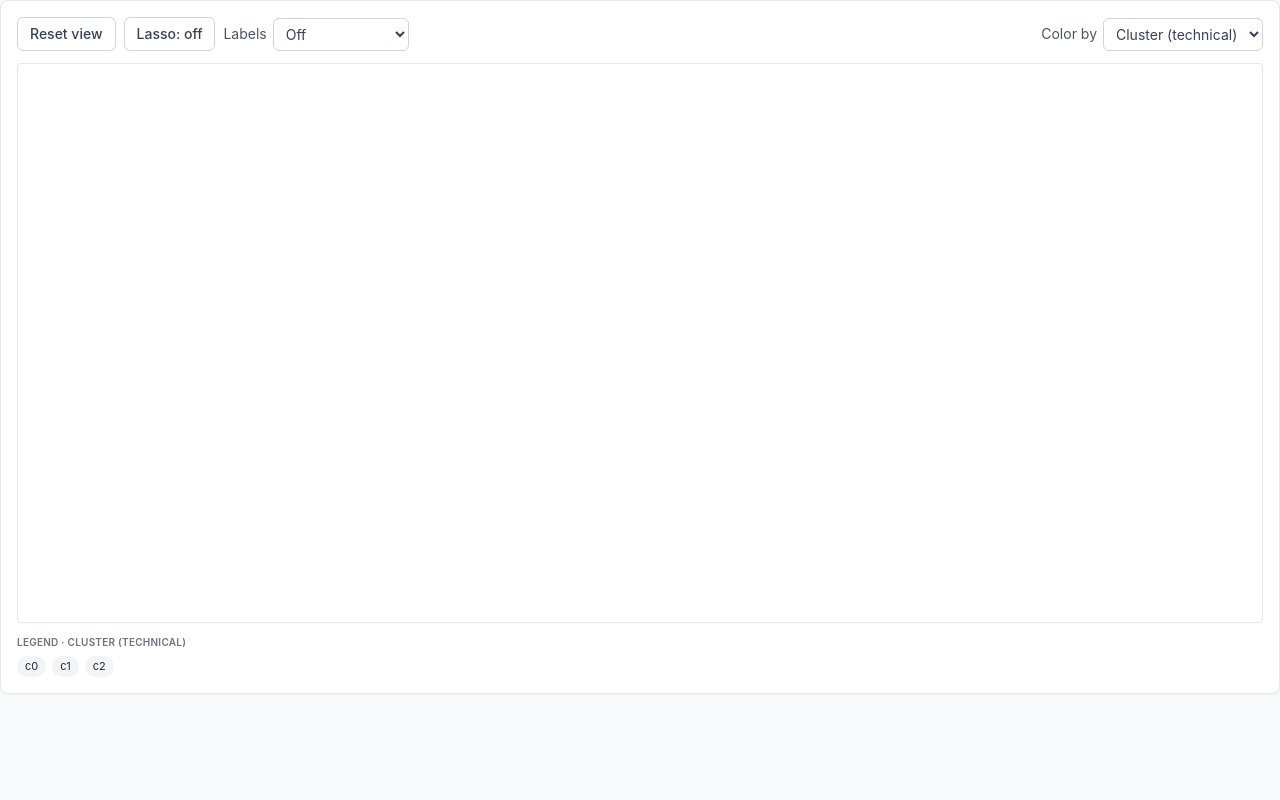
Test: EmbeddingViewer › toggles lasso button label on click
The image size is (1280, 800).
Click the button "Lasso: off" at coordinates (169, 34), box 124,17 -> 215,51
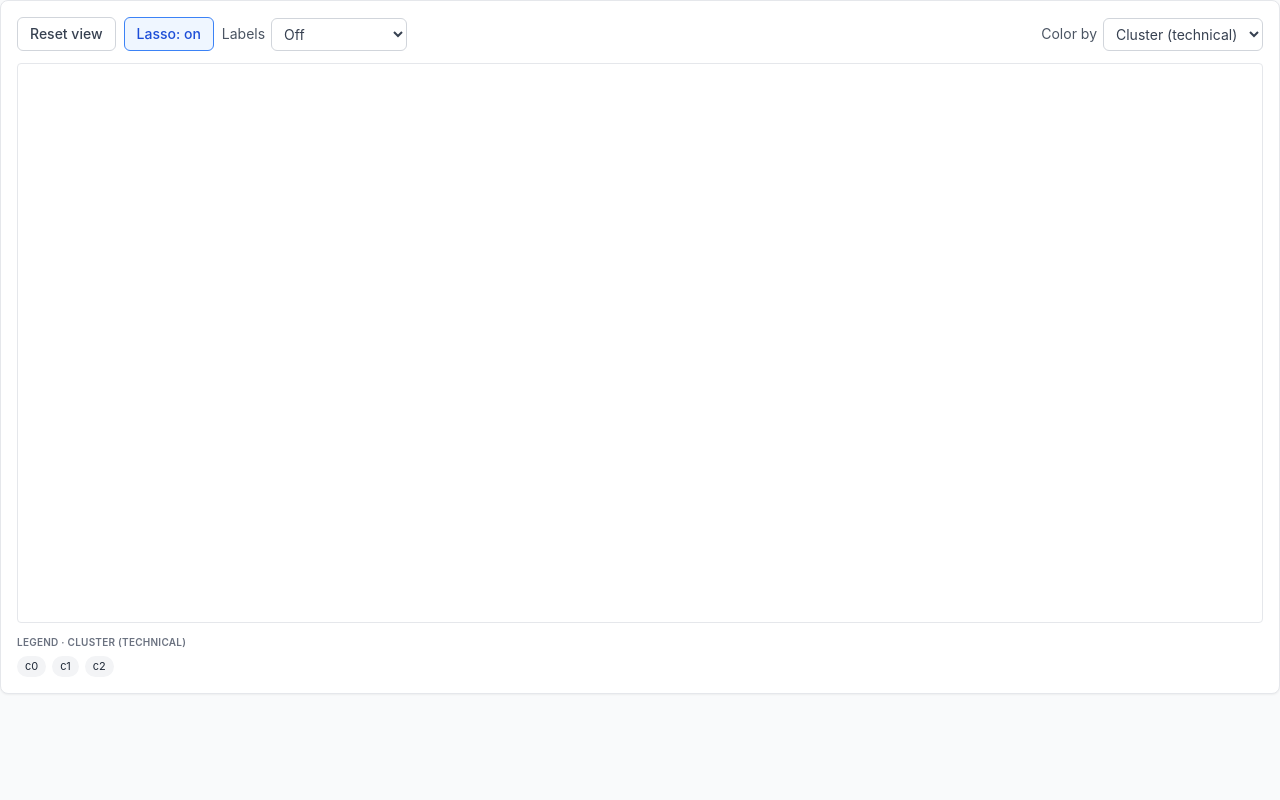
Expected: the button "Lasso: on" is shown
Click the button "Lasso: on" at coordinates (169, 34), box 124,17 -> 214,51
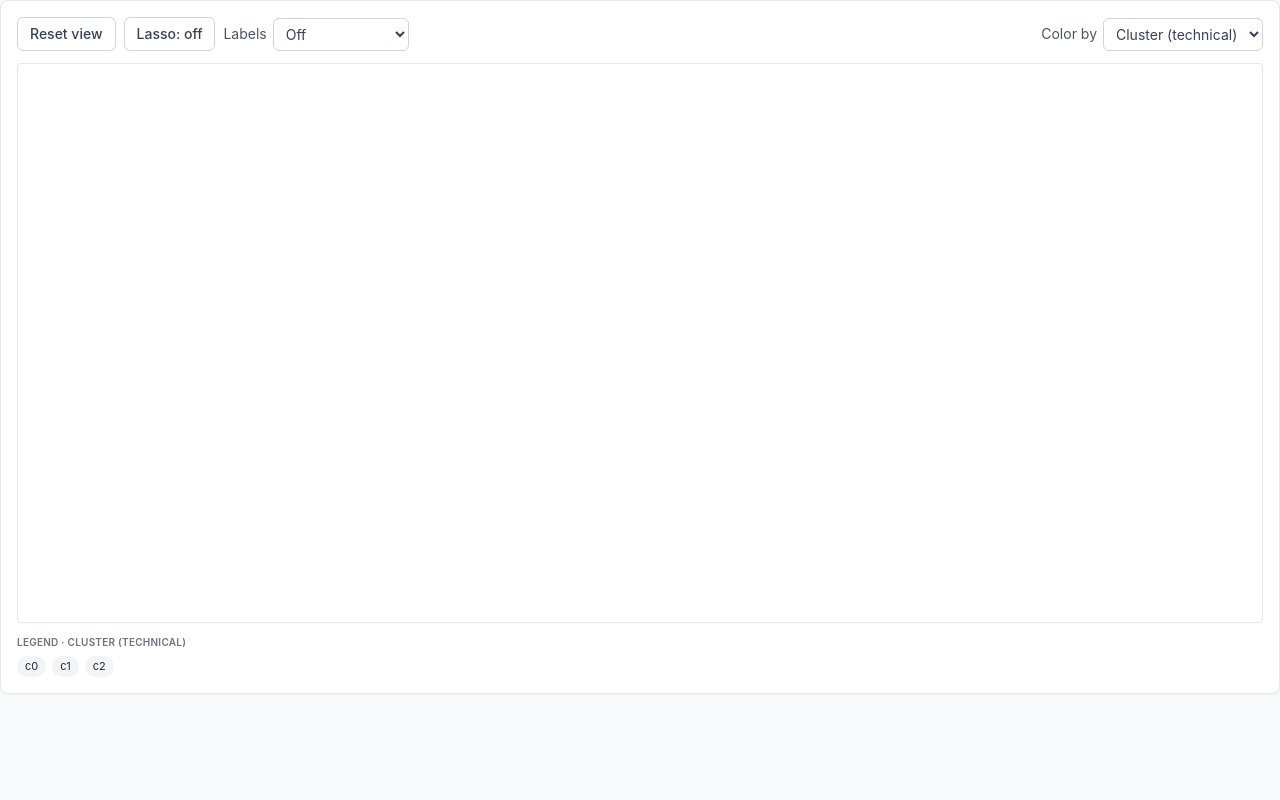
Expected: the button "Lasso: off" is shown, 124,17 -> 215,51
